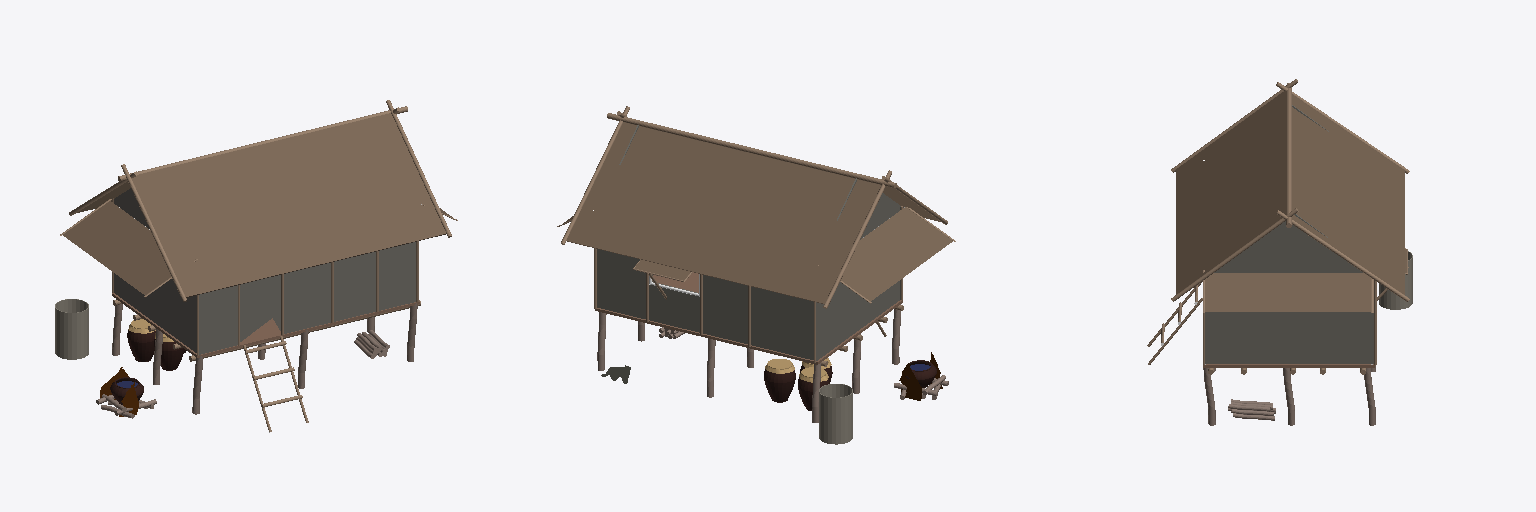
The model's file is CAPANNA.obj.
The picture shows the model from 3 angles: view 1: azimuth 30°, elevation 25°; view 2: azimuth 150°, elevation 25°; view 3: azimuth 270°, elevation 25°; orthographic projection.
Parts seen in each view (by area): view 1: Mesh9 Group10 Group7 Model, Mesh4 Group4 Model, Mesh15 Group18 Group15 Model, Mesh2 Group2 Model, Mesh38 Group42 Model, Mesh1 Group1 Model, Mesh6 Group6 Model, Mesh50 Group57 Group56 Group53 Model, Mesh7 Group8 Group7 Model, Mesh8 Group9 Group7 Model; view 2: Mesh12 Group14 Group11 Model, Mesh5 Group5 Model, Mesh15 Group18 Group15 Model, Mesh2 Group2 Model, Mesh38 Group42 Model, Mesh6 Group6 Model, Mesh1 Group1 Model, Mesh58 Group67 Group66 Group63 Model, Mesh10 Group12 Group11 Model, Mesh81 Group91 Model, Mesh11 Group13 Group11 Model; view 3: Mesh12 Group14 Group11 Model, Mesh9 Group10 Group7 Model, Mesh3 Group3 Model, Mesh26 Group30 Group27 Model, Mesh38 Group42 Model, Mesh6 Group6 Model, Mesh1 Group1 Model, Mesh11 Group13 Group11 Model, Mesh8 Group9 Group7 Model.
Boxes of the visible parts, box(x1,y1,x2,y2) form: Mesh9 Group10 Group7 Model: box(132, 113, 445, 297); Mesh4 Group4 Model: box(200, 242, 415, 354); Mesh15 Group18 Group15 Model: box(63, 201, 171, 294); Mesh2 Group2 Model: box(114, 188, 199, 354); Mesh38 Group42 Model: box(55, 299, 88, 359); Mesh1 Group1 Model: box(112, 293, 419, 357); Mesh6 Group6 Model: box(118, 106, 407, 181); Mesh50 Group57 Group56 Group53 Model: box(127, 330, 155, 361); Mesh7 Group8 Group7 Model: box(121, 164, 186, 301); Mesh8 Group9 Group7 Model: box(386, 100, 451, 237); Mesh12 Group14 Group11 Model: box(567, 122, 880, 303); Mesh5 Group5 Model: box(598, 249, 813, 359); Mesh15 Group18 Group15 Model: box(841, 207, 952, 300); Mesh2 Group2 Model: box(816, 178, 900, 360); Mesh38 Group42 Model: box(819, 384, 852, 444); Mesh6 Group6 Model: box(607, 113, 896, 187); Mesh1 Group1 Model: box(595, 272, 902, 364); Mesh58 Group67 Group66 Group63 Model: box(764, 369, 795, 402); Mesh10 Group12 Group11 Model: box(823, 170, 891, 308); Mesh81 Group91 Model: box(633, 259, 692, 281); Mesh11 Group13 Group11 Model: box(561, 106, 629, 244); Mesh12 Group14 Group11 Model: box(1292, 95, 1404, 294); Mesh9 Group10 Group7 Model: box(1176, 91, 1286, 294); Mesh3 Group3 Model: box(1205, 214, 1373, 363); Mesh26 Group30 Group27 Model: box(1205, 273, 1370, 311); Mesh38 Group42 Model: box(1379, 251, 1412, 309); Mesh6 Group6 Model: box(1286, 83, 1291, 227); Mesh1 Group1 Model: box(1203, 364, 1374, 367); Mesh11 Group13 Group11 Model: box(1276, 210, 1409, 301); Mesh8 Group9 Group7 Model: box(1171, 208, 1298, 301).
Size of the model in its own units: 6.74 by 4.56 by 4.73.